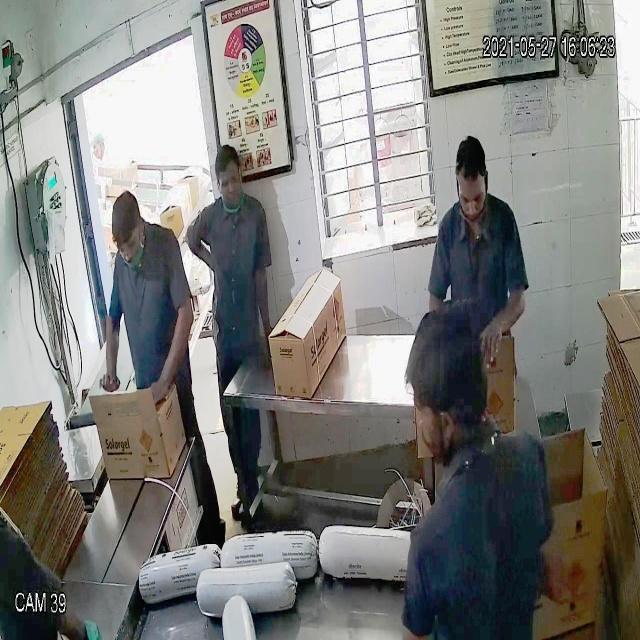Sin_gafas: (455, 182, 490, 215), (114, 235, 147, 263)
